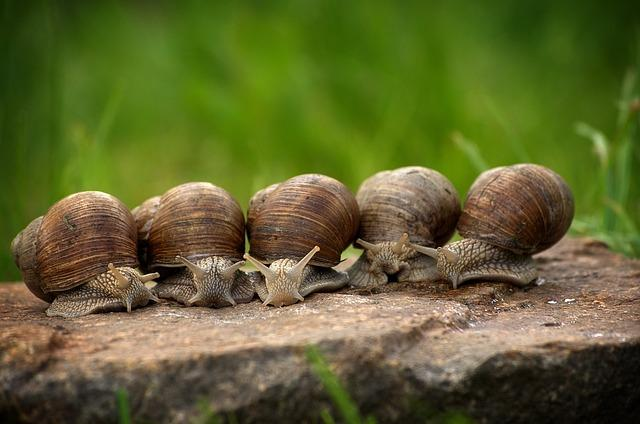Non_Gorille: (23, 108, 587, 341)
